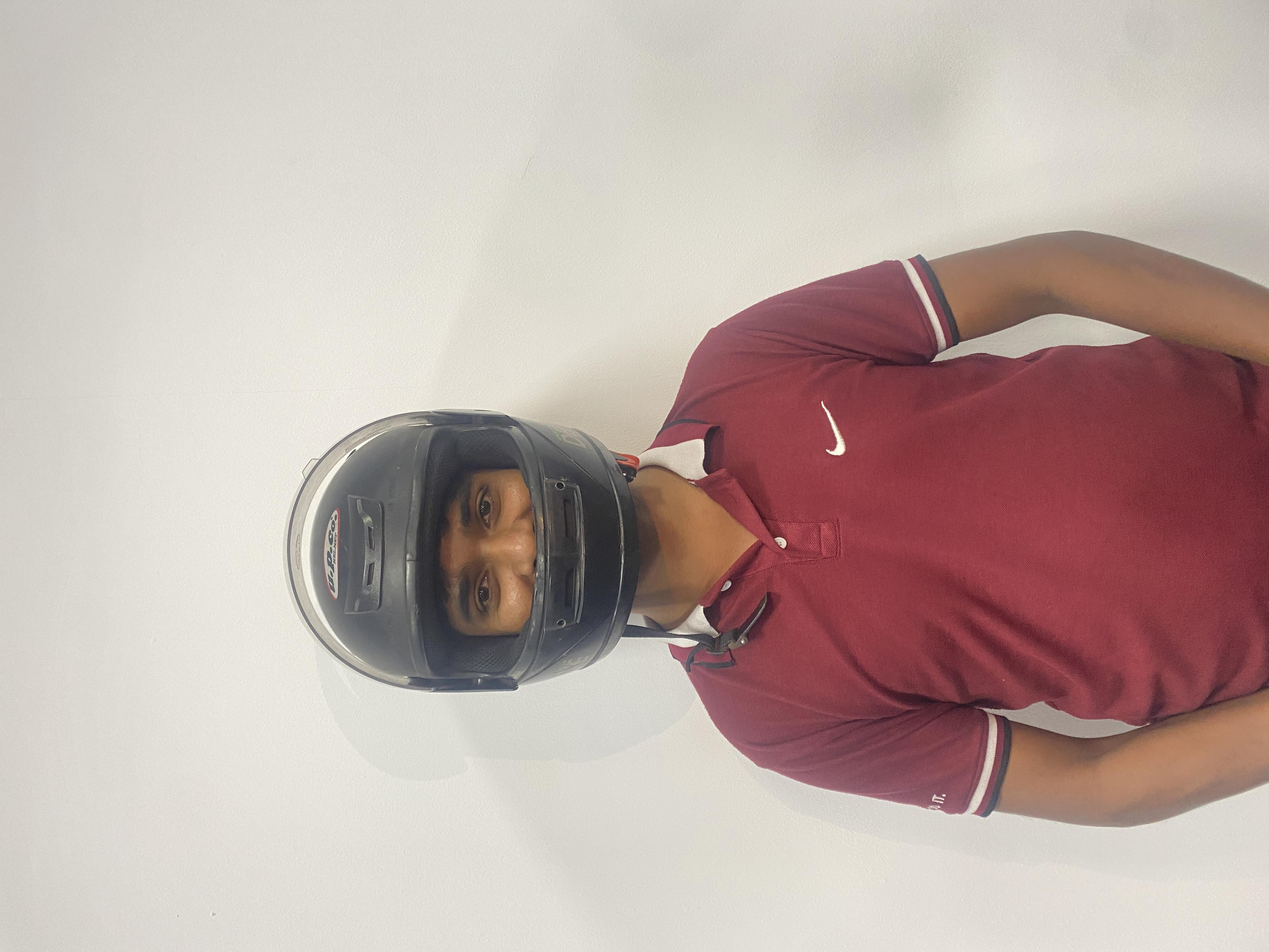helmet: (349, 208, 734, 491)
